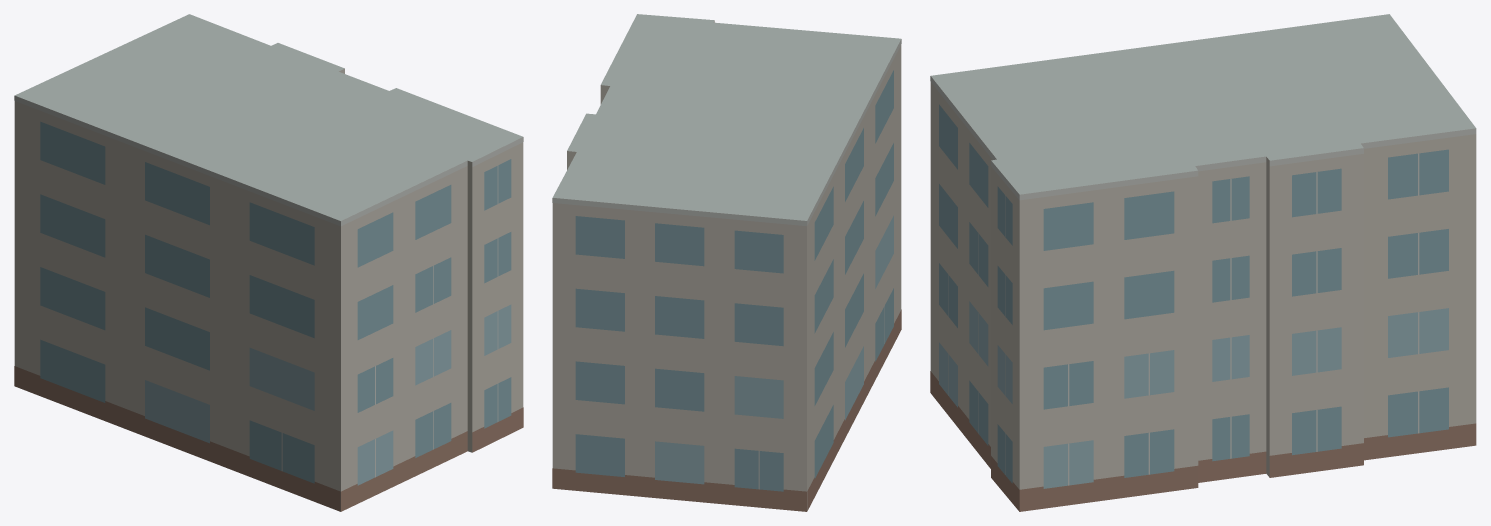
File: survey-upis-32937530.glb
3 views of the same model, side by side, from view 1: azimuth 30°, elevation 25°; view 2: azimuth 150°, elevation 25°; view 3: azimuth 270°, elevation 25° (orthographic). The views are drawn at different scales.
Parts seen in each view (by area): view 1: survey-upis-32937530.tmp; view 2: survey-upis-32937530.tmp; view 3: survey-upis-32937530.tmp.
Boxes of the visible parts, left/top/right/bottom form: survey-upis-32937530.tmp: left=14, top=14, right=523, bottom=511; survey-upis-32937530.tmp: left=552, top=14, right=901, bottom=511; survey-upis-32937530.tmp: left=930, top=14, right=1476, bottom=511.
Size of the model in its own units: 16.51 by 13.51 by 21.08.
